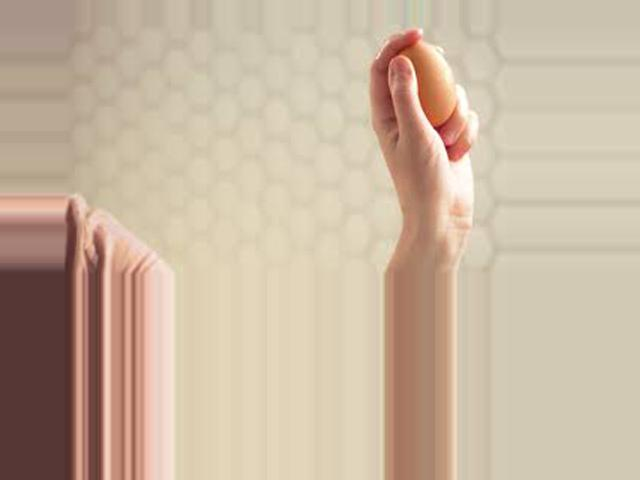egg: (393, 42, 459, 126)
